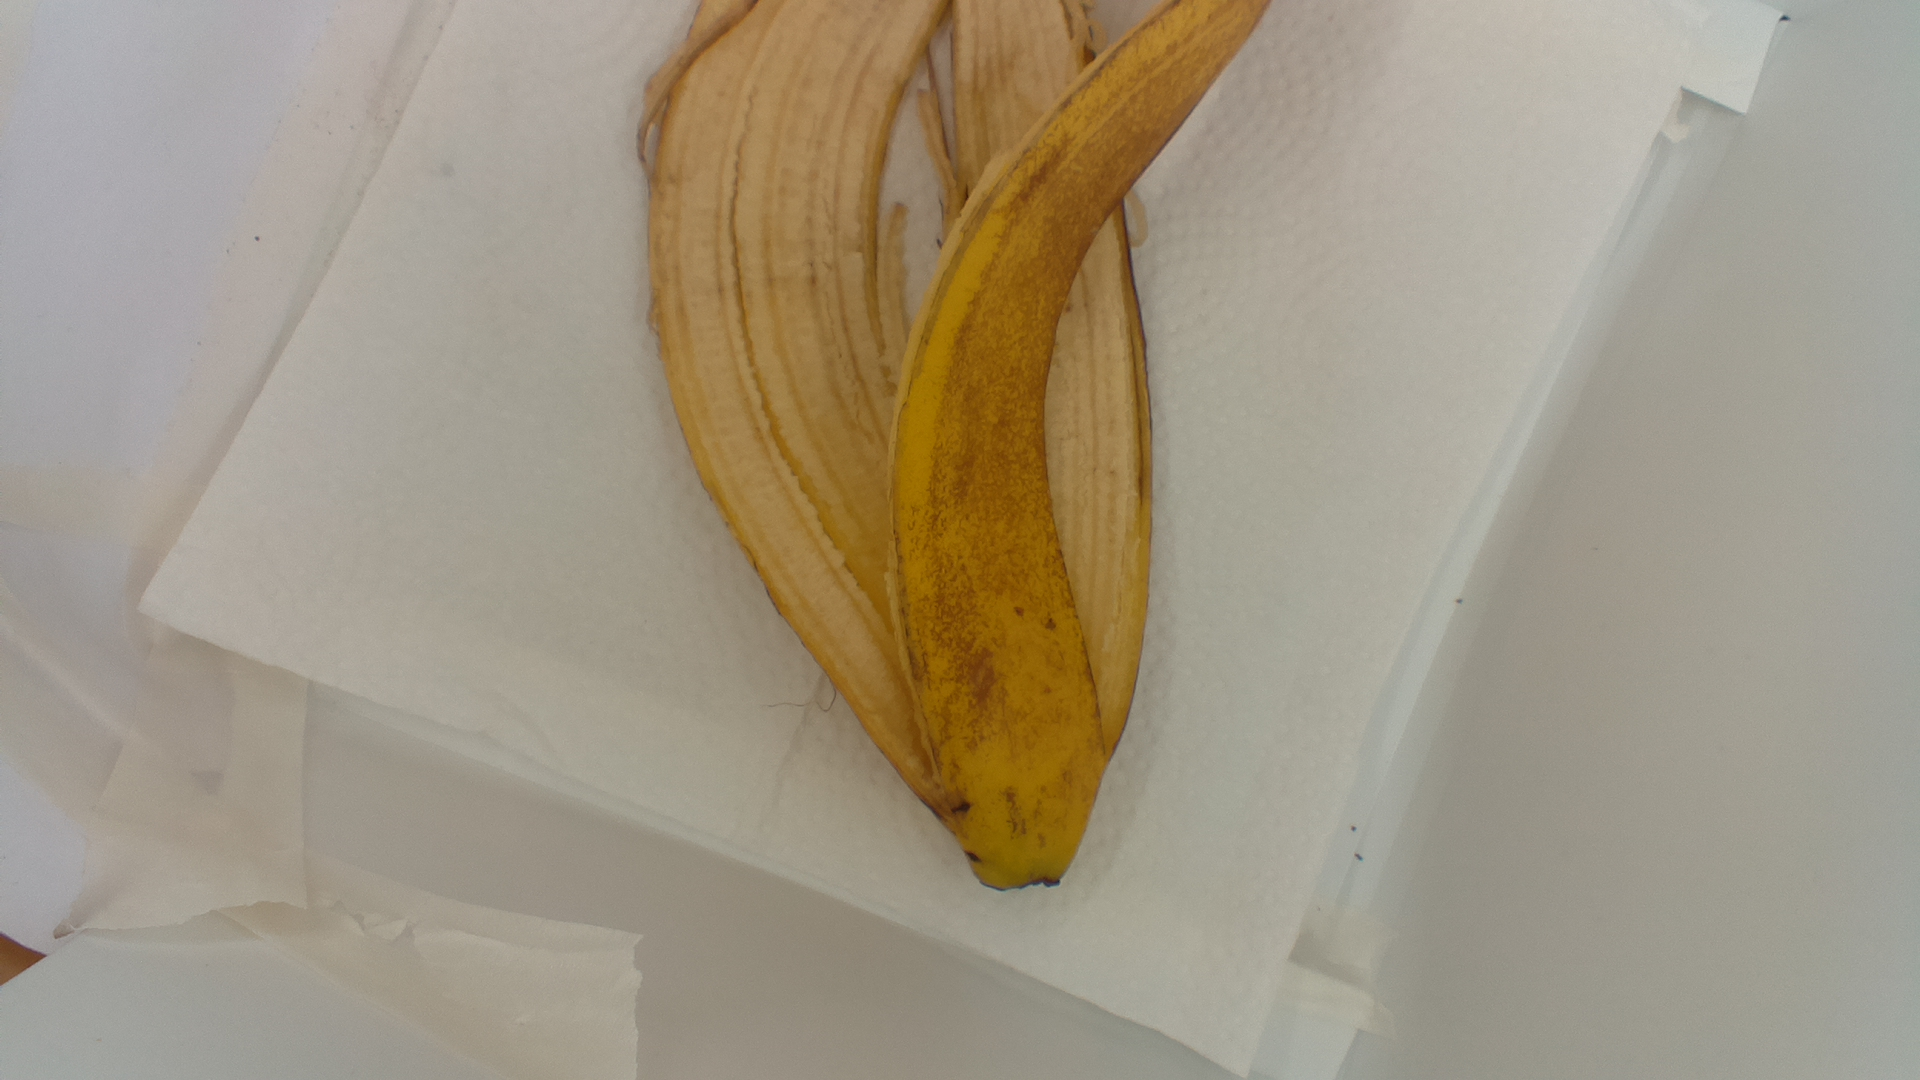fruit: (632, 1, 1274, 906)
